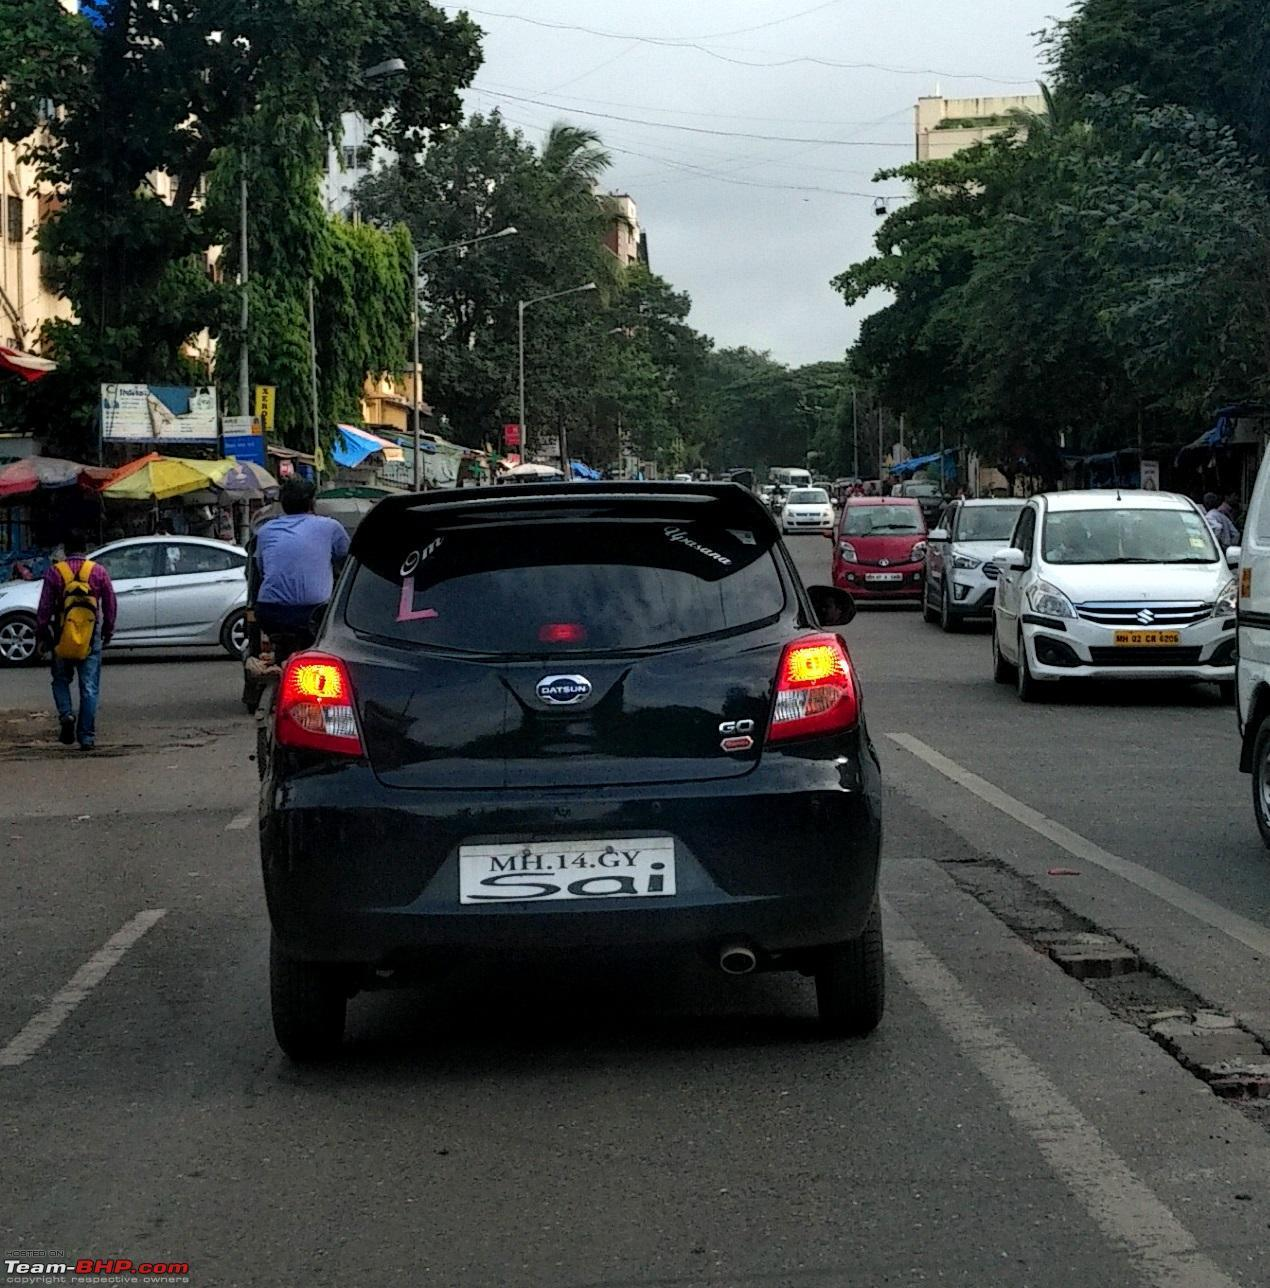bienso: (435, 816, 697, 912)
